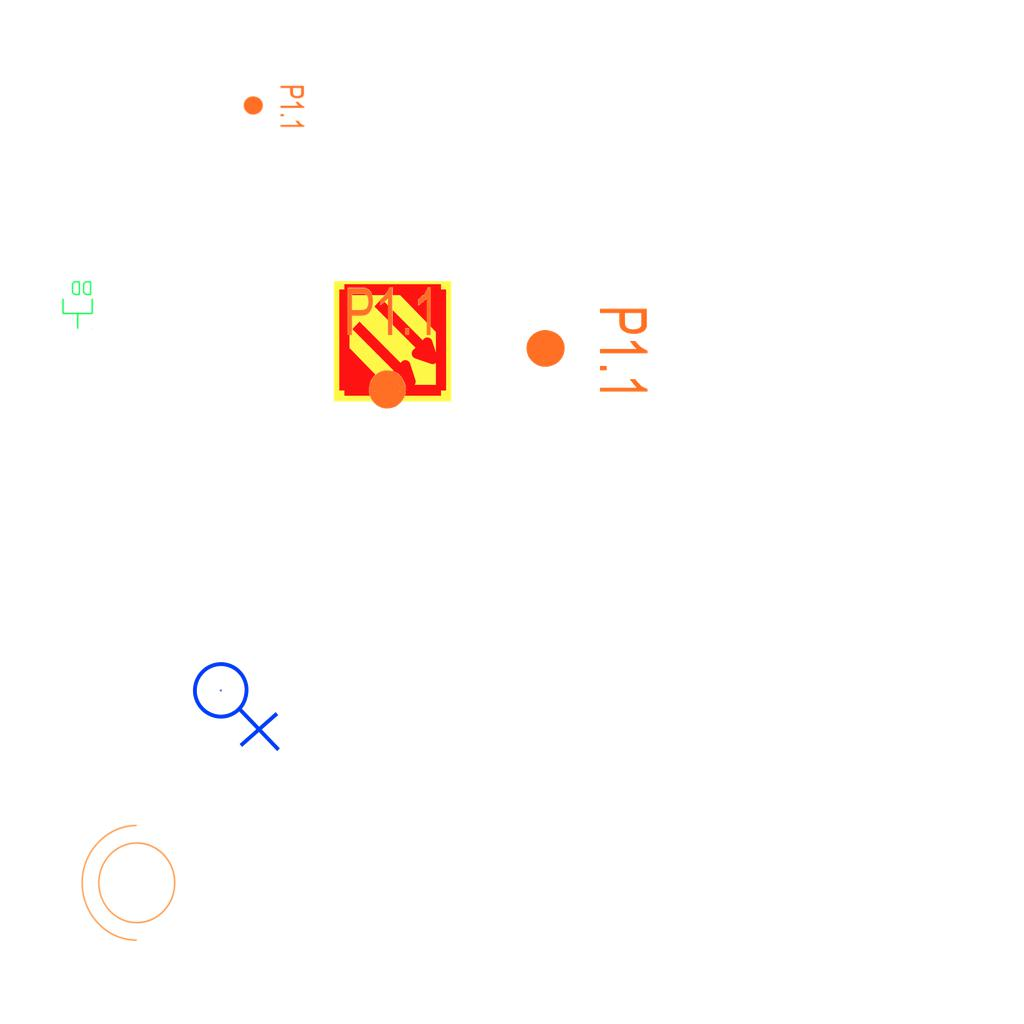ASR_Ansaugrauchmelder: (330, 279, 455, 404)
Datenanschluss_zweifach: (61, 279, 95, 330)
Downlight_LED_Einbauleuchten_Flur: (523, 305, 651, 398), (344, 284, 437, 412), (242, 84, 306, 130)
Elektroanschluss_allgemein_230V_Geraeteanschlussdose_230V: (191, 653, 285, 752)
Scheinwerfer_fuer_Alarmbeleuchtung: (76, 820, 188, 952)
